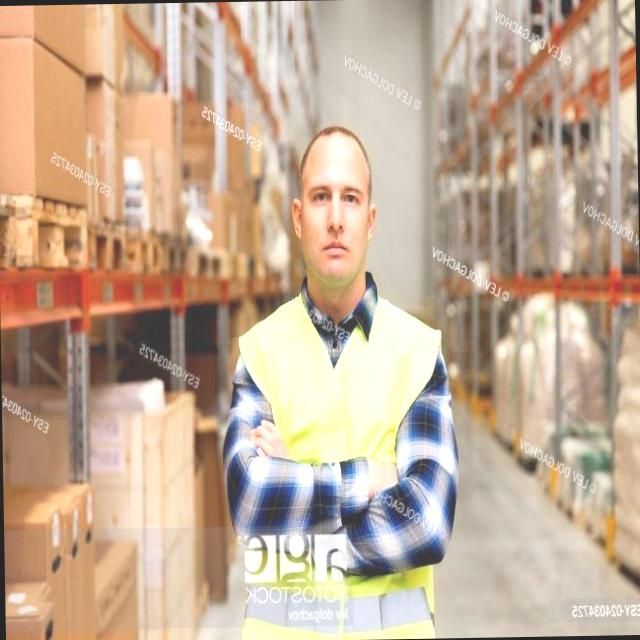vest: (244, 286, 434, 494), (0, 45, 29, 205)
